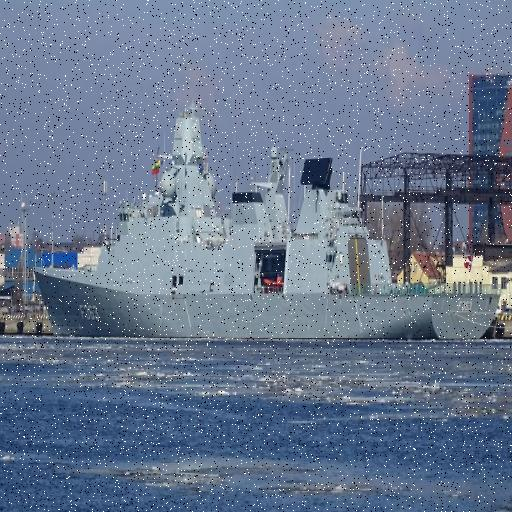Fragata: (32, 97, 504, 347)
